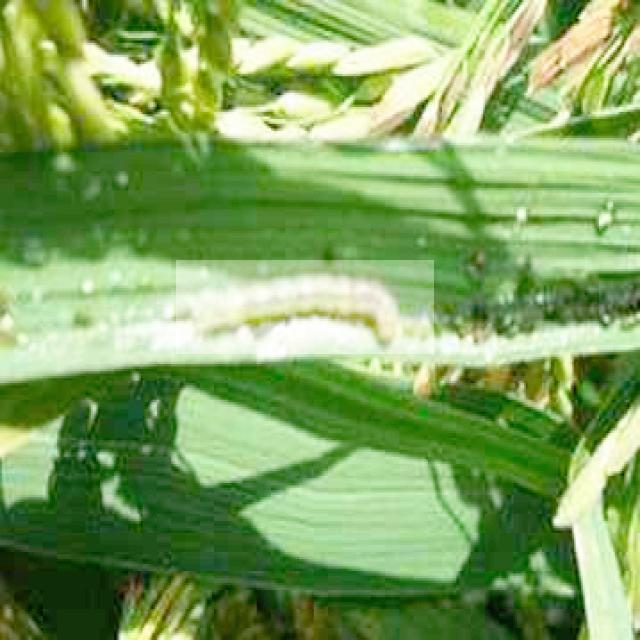leaf-folder: (176, 260, 434, 354)
